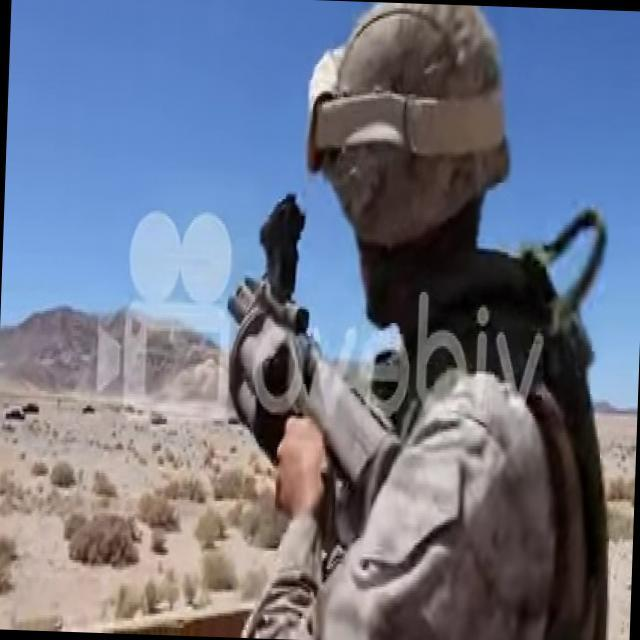rocket: (218, 191, 404, 541)
